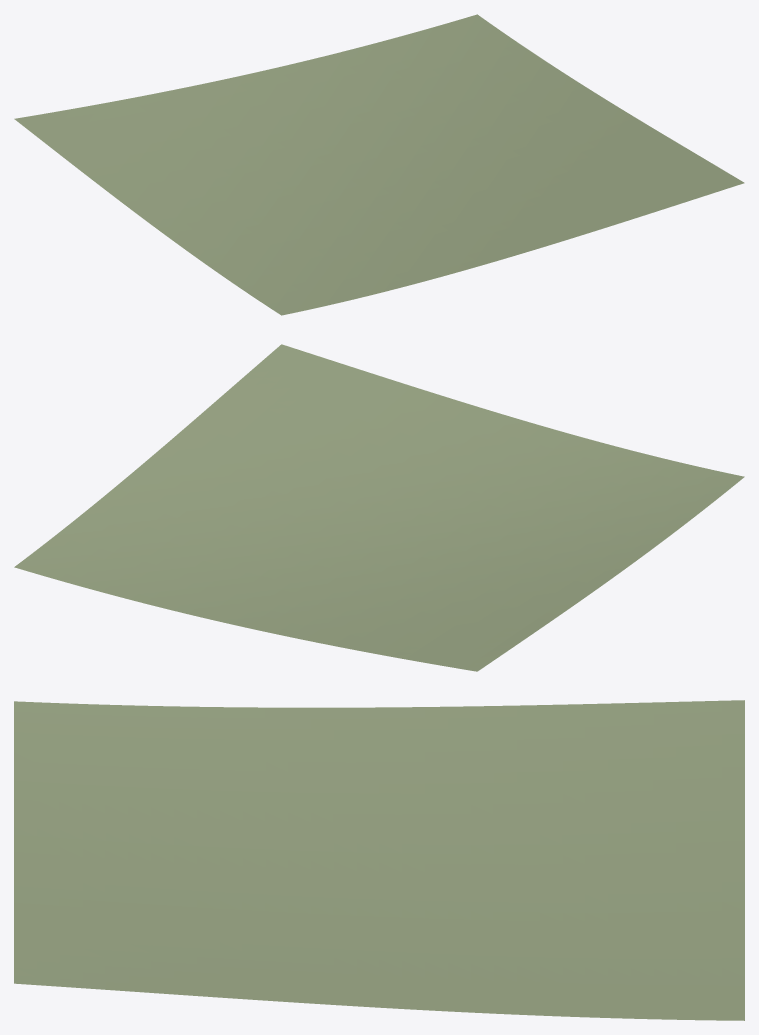
File: alpine-14-1.glb
The picture shows the model from 3 angles, top to bottom: view 1: azimuth 30°, elevation 25°; view 2: azimuth 150°, elevation 25°; view 3: azimuth 270°, elevation 25°; orthographic projection. The views are drawn at different scales.
Visible parts, largest first — view 1: alpine-14-1; view 2: alpine-14-1; view 3: alpine-14-1.
Boxes of the visible parts, x1,y1,x2,y2 form: alpine-14-1: [14, 14, 744, 315]; alpine-14-1: [14, 344, 744, 671]; alpine-14-1: [14, 700, 744, 1020].
Bounding box in the file's own units: 256 × 17.43 × 256.
